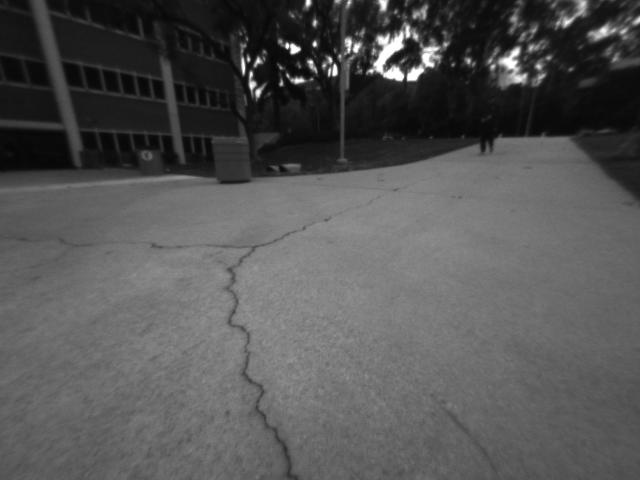trashcan: (206, 135, 251, 186), (139, 146, 171, 177)
